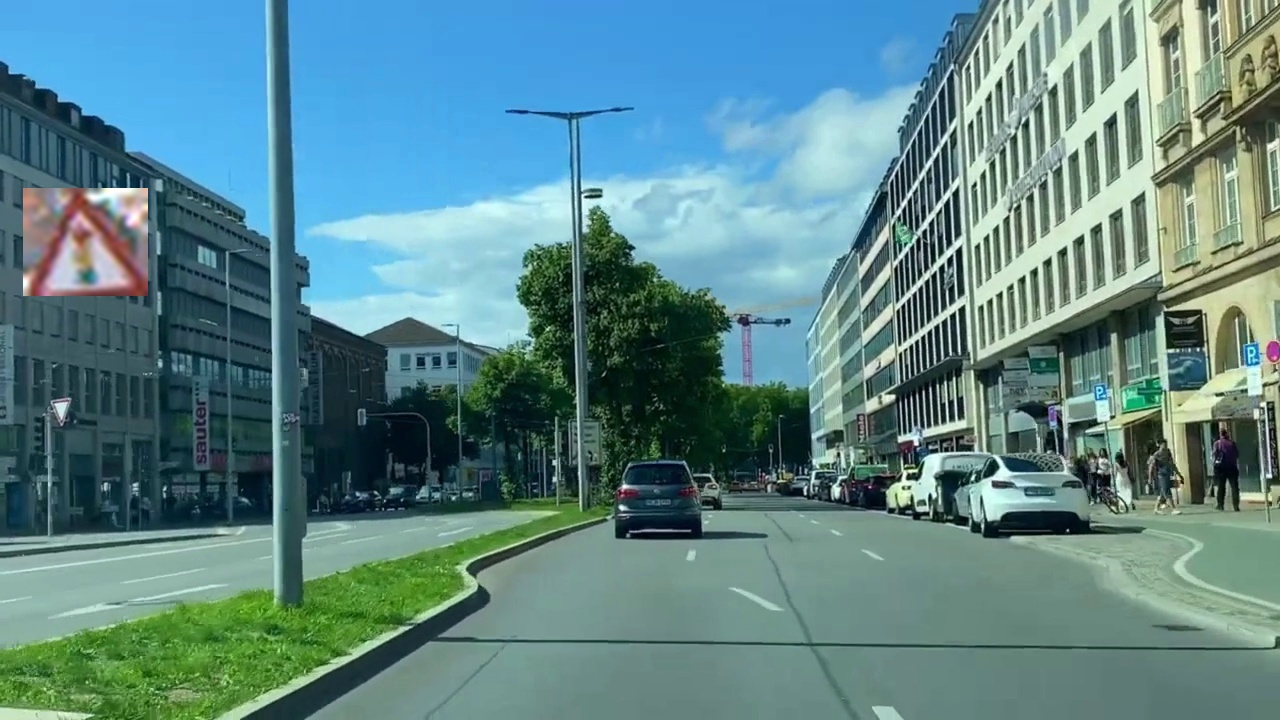Signals: (23, 188, 148, 296)
